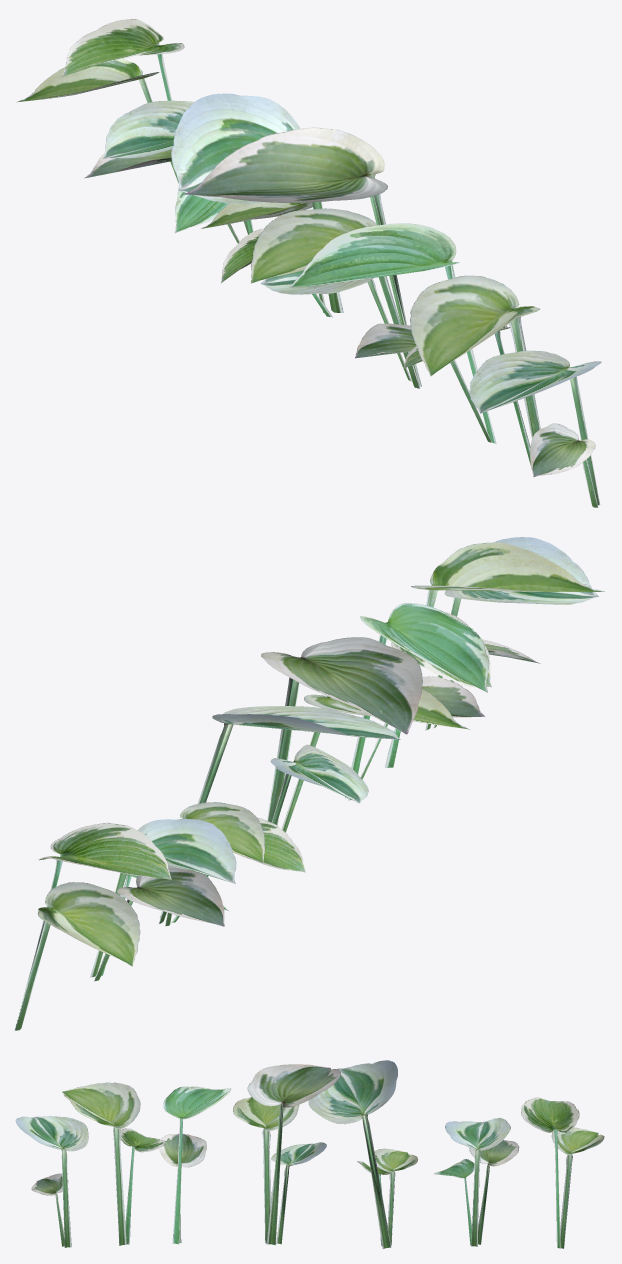
Rendered from plant_small_wg_00_line_03.fbx.
3 renders of one model, top to bottom at view 1: azimuth 30°, elevation 25°; view 2: azimuth 150°, elevation 25°; view 3: azimuth 270°, elevation 25°, orthographic. The views are drawn at different scales.
Parts seen in each view (by area): view 1: plant_small_wg_00_line_03; view 2: plant_small_wg_00_line_03; view 3: plant_small_wg_00_line_03.
Part boxes in pixels (bbox=[...]): plant_small_wg_00_line_03: bbox=[16, 19, 601, 507]; plant_small_wg_00_line_03: bbox=[14, 537, 604, 1030]; plant_small_wg_00_line_03: bbox=[15, 1060, 604, 1248].
Bounding box in the file's own units: 42.8 × 48.86 × 178.
Materials: 1 (1 with a texture image).
